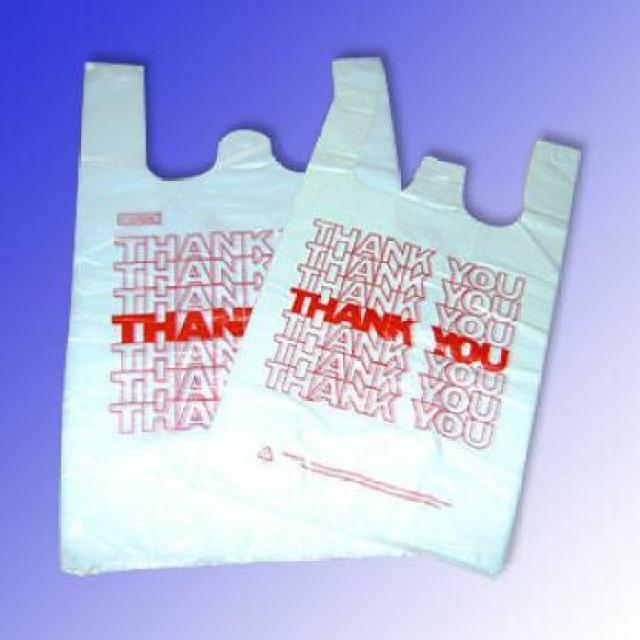plastic bag: (51, 54, 589, 571)
